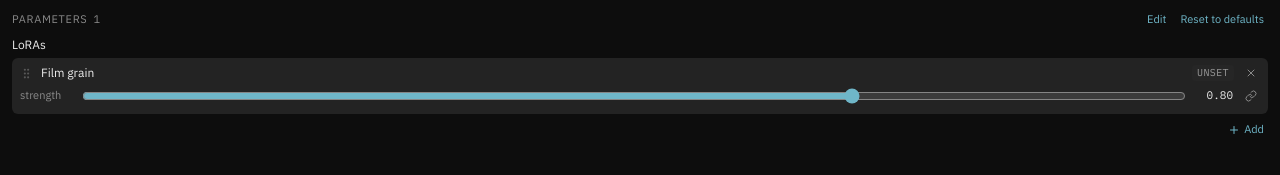
Test: the LoRA list › one slider drives both strengths until they are unlinked
Set the slider named "krea/film-grain.safetensors strength" to "0.5" at coordinates (770, 96), box [82,88,1186,104]
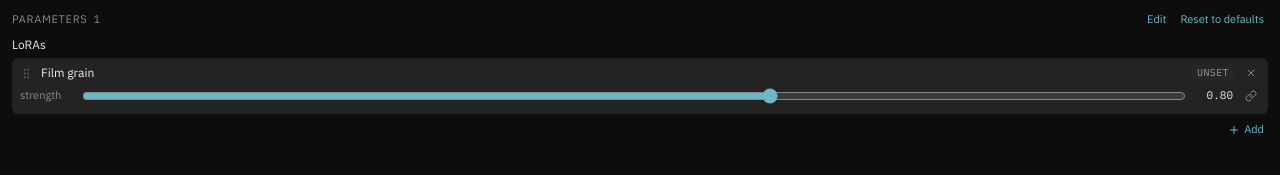
Click the button named "Unlink strengths" at coordinates (1251, 96), box [1242,88,1260,104]
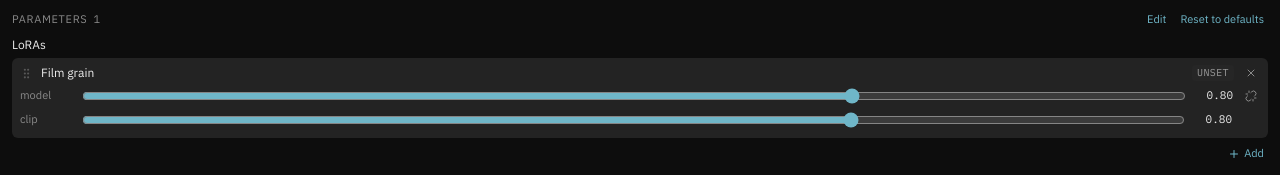
expect the slider named "krea/film-grain.safetensors model strength" is shown: met, box [82,88,1186,104]
expect the slider named "krea/film-grain.safetensors clip strength" is shown: met, box [82,112,1185,128]
